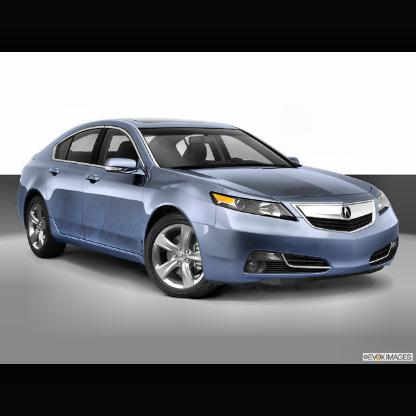Acura TL Sedan 2012: (10, 107, 408, 311)
